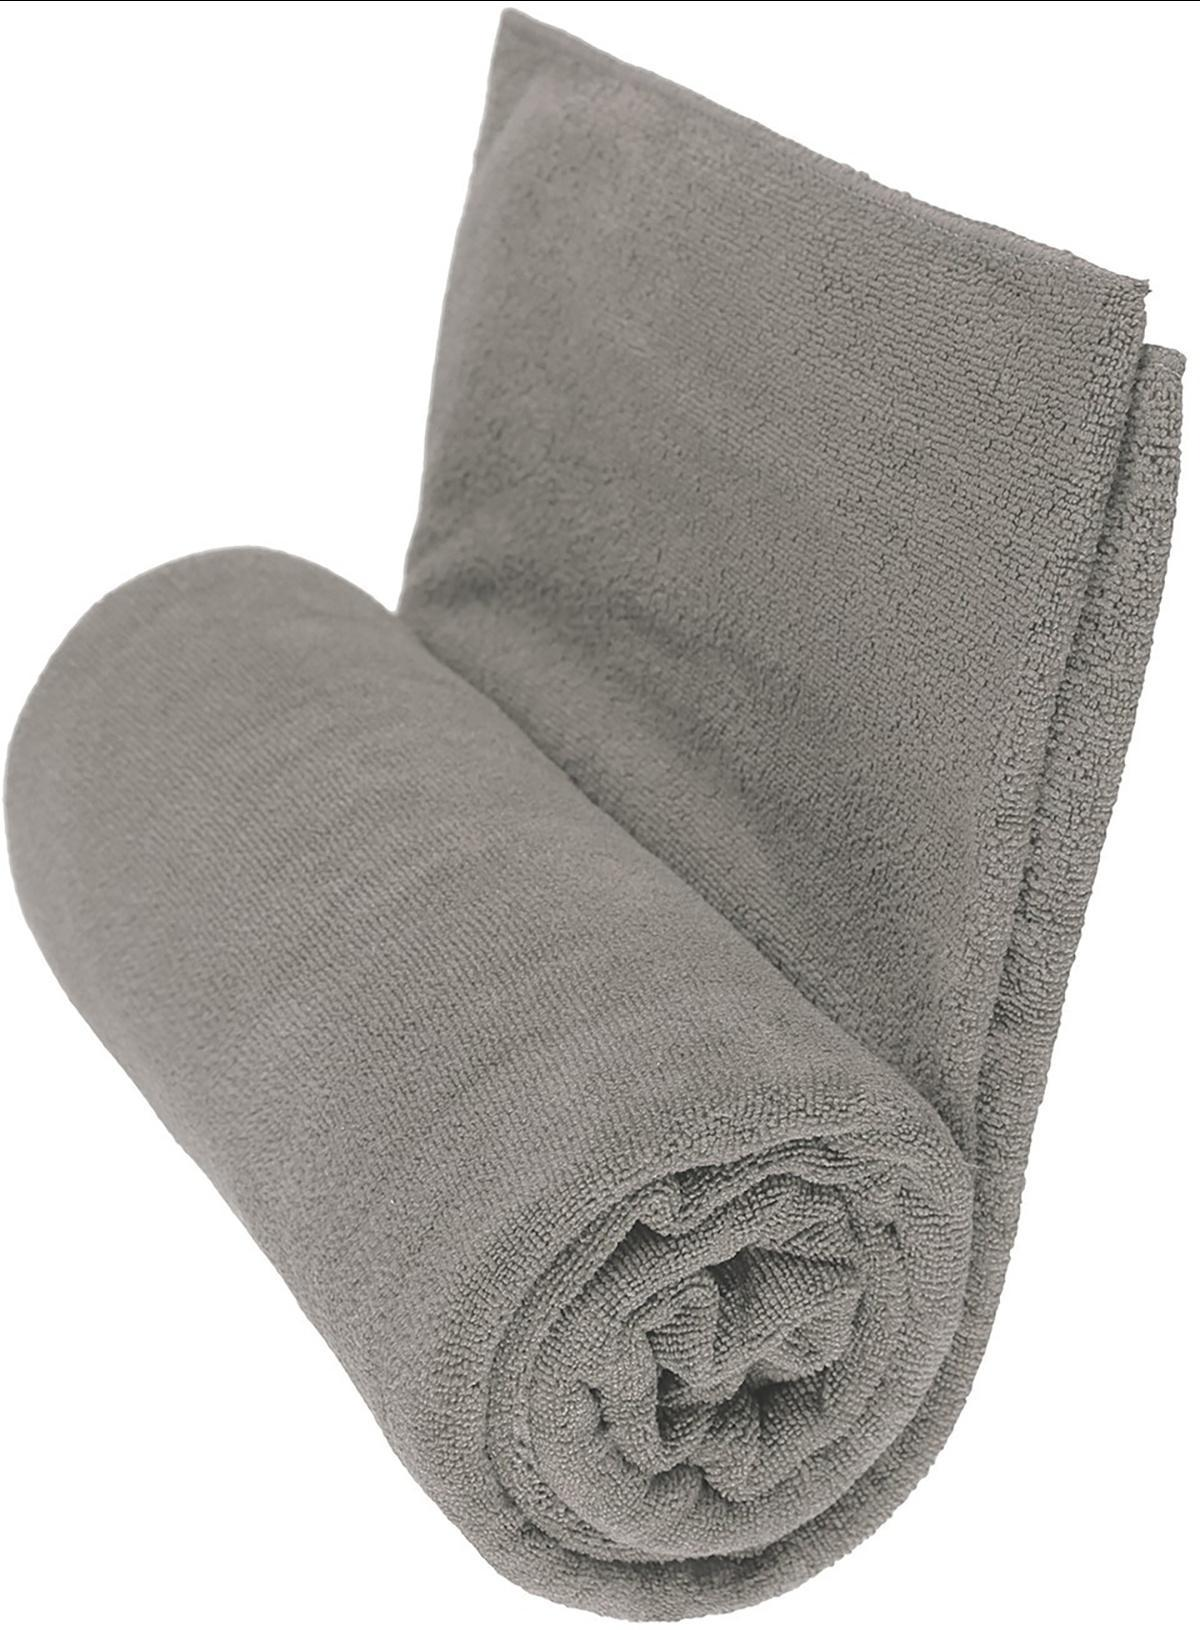towel: (0, 4, 1200, 1626)
